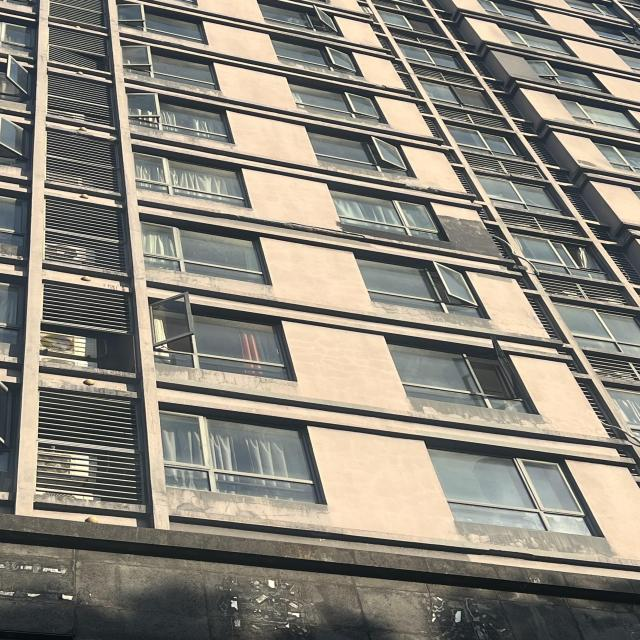spalling: (165, 485, 333, 531), (155, 361, 303, 399), (454, 523, 616, 557), (407, 398, 543, 429), (373, 301, 493, 326)
